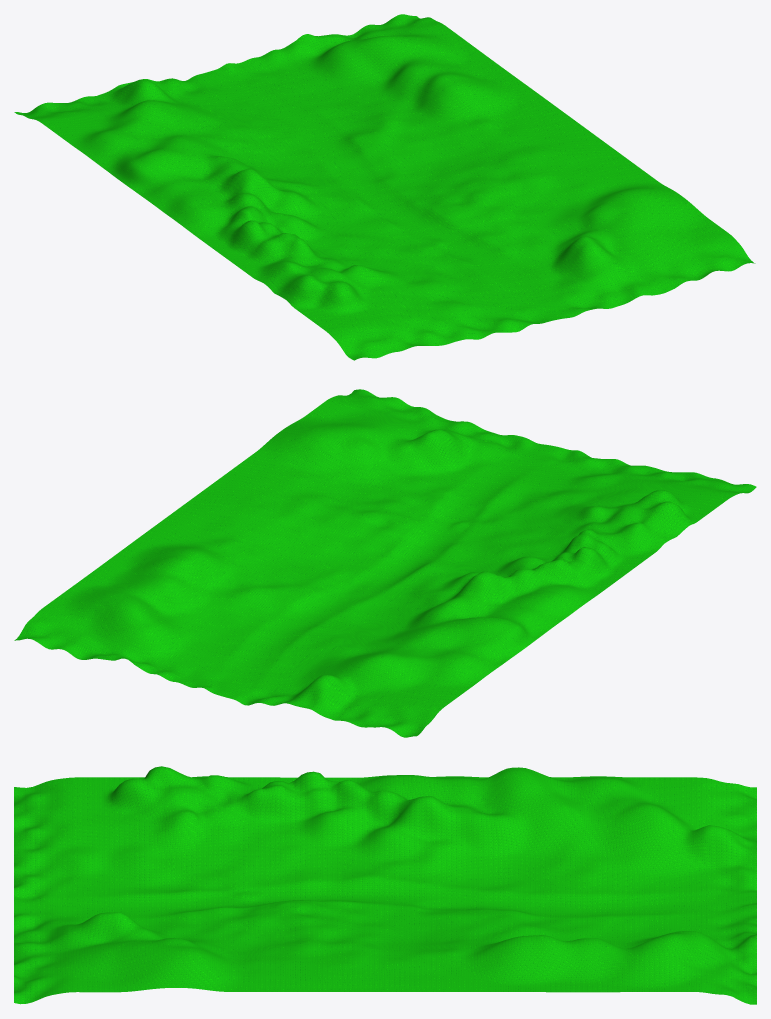
Rendered from AITerrain_02_HILLS.obj.
3 renders of one model, top to bottom at view 1: azimuth 30°, elevation 25°; view 2: azimuth 150°, elevation 25°; view 3: azimuth 270°, elevation 25°, orthographic. The views are drawn at different scales.
Parts seen in each view (by area): view 1: AITerrain_02_HILLS; view 2: AITerrain_02_HILLS; view 3: AITerrain_02_HILLS.
Part boxes in pixels (box(x1,y1,x2,y2)): AITerrain_02_HILLS: box(14, 14, 755, 360); AITerrain_02_HILLS: box(14, 389, 756, 737); AITerrain_02_HILLS: box(14, 766, 756, 1004).
Size of the model in its own units: 2057 by 209 by 3000.
1 material, 1 textured.
